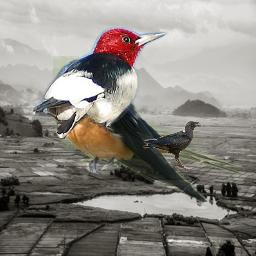Crow: (143, 121, 202, 170)
Swallow: (53, 56, 245, 202)
Woodpecker: (32, 27, 169, 140)
